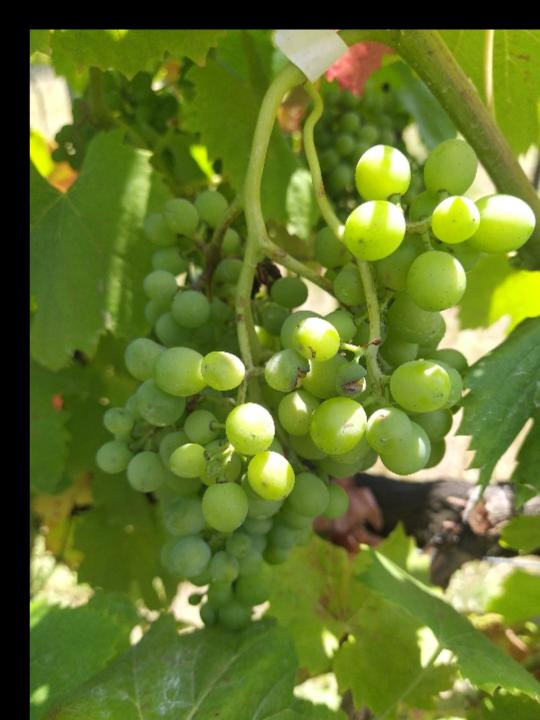grape: (93, 137, 539, 632)
